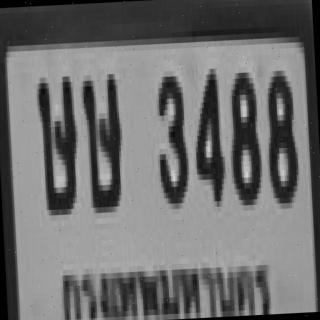A39: (78, 68, 124, 208), (33, 71, 78, 211)
N03: (151, 70, 189, 204)
N04: (190, 63, 223, 202)
N08: (263, 65, 298, 199), (226, 67, 259, 200)
P04: (56, 248, 273, 320)
